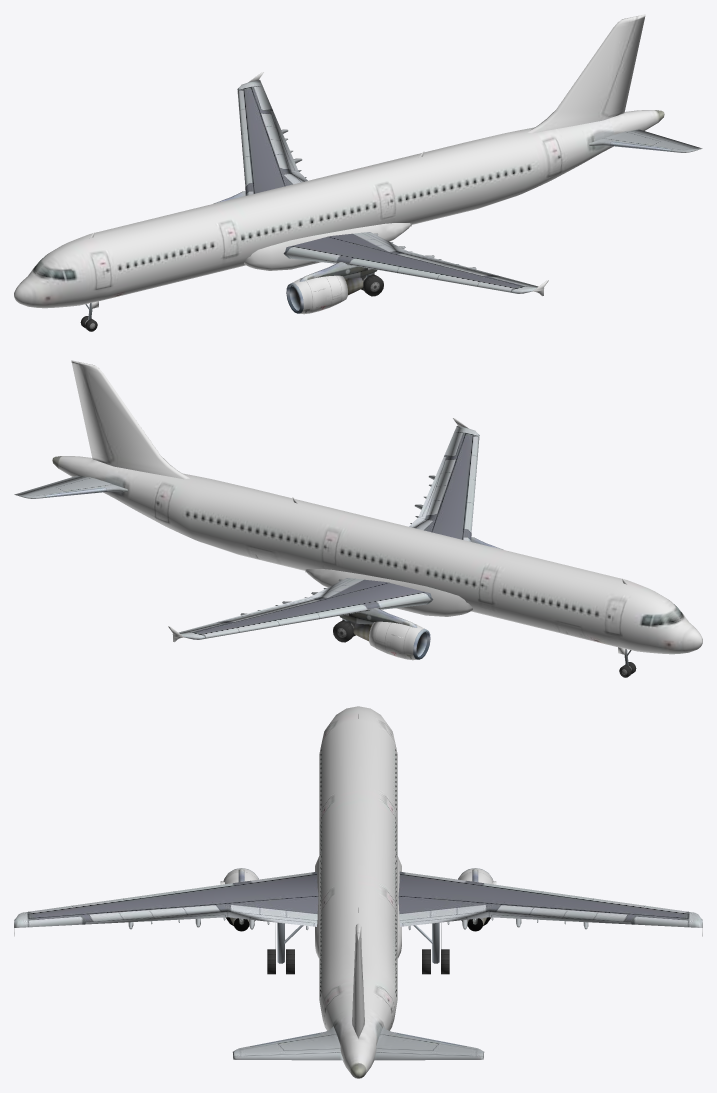
3 renders of one model, top to bottom at view 1: azimuth 30°, elevation 25°; view 2: azimuth 150°, elevation 25°; view 3: azimuth 270°, elevation 25°, orthographic. The views are drawn at different scales.
Visible parts, largest first — view 1: airframe, gear; view 2: airframe, gear; view 3: airframe, gear.
Boxes of the visible parts, x1,y1,x2,y2 form: airframe: (14,14,702,314); gear: (80,272,383,331); airframe: (14,360,702,660); gear: (333,618,636,677); airframe: (14,706,702,1078); gear: (267,922,449,974).
Size of the model in its own units: 44.52 by 11.78 by 33.85.
Materials: 1 (1 with a texture image).
